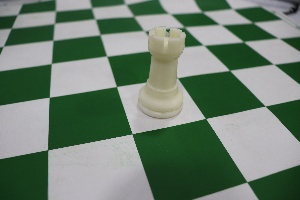white_rook: (128, 18, 188, 123)
